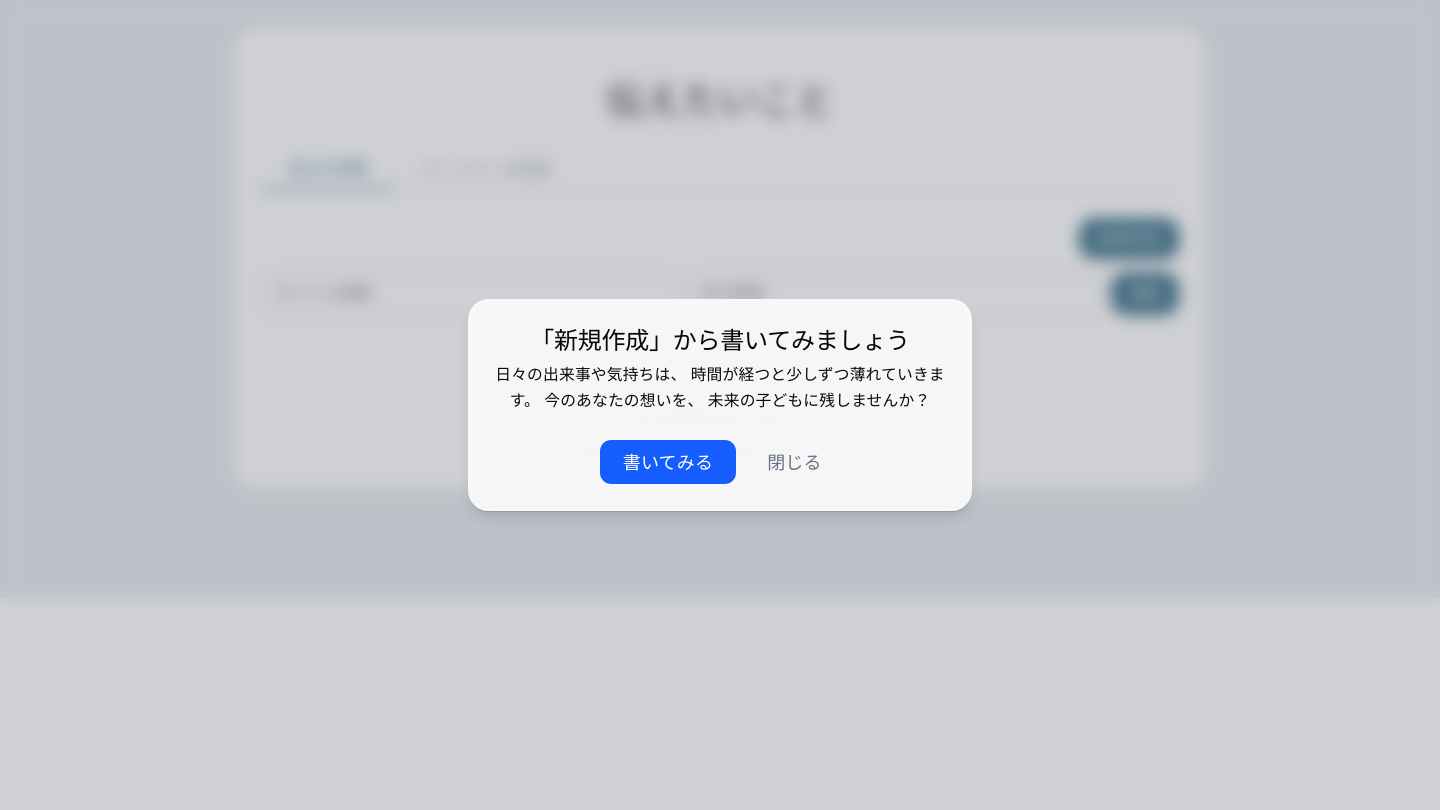
PostList › Guide,Info,Toast › 「書いてみる」で新規投稿画面に遷移する
Click the button "書いてみる": (668, 462) [600,440,736,484]
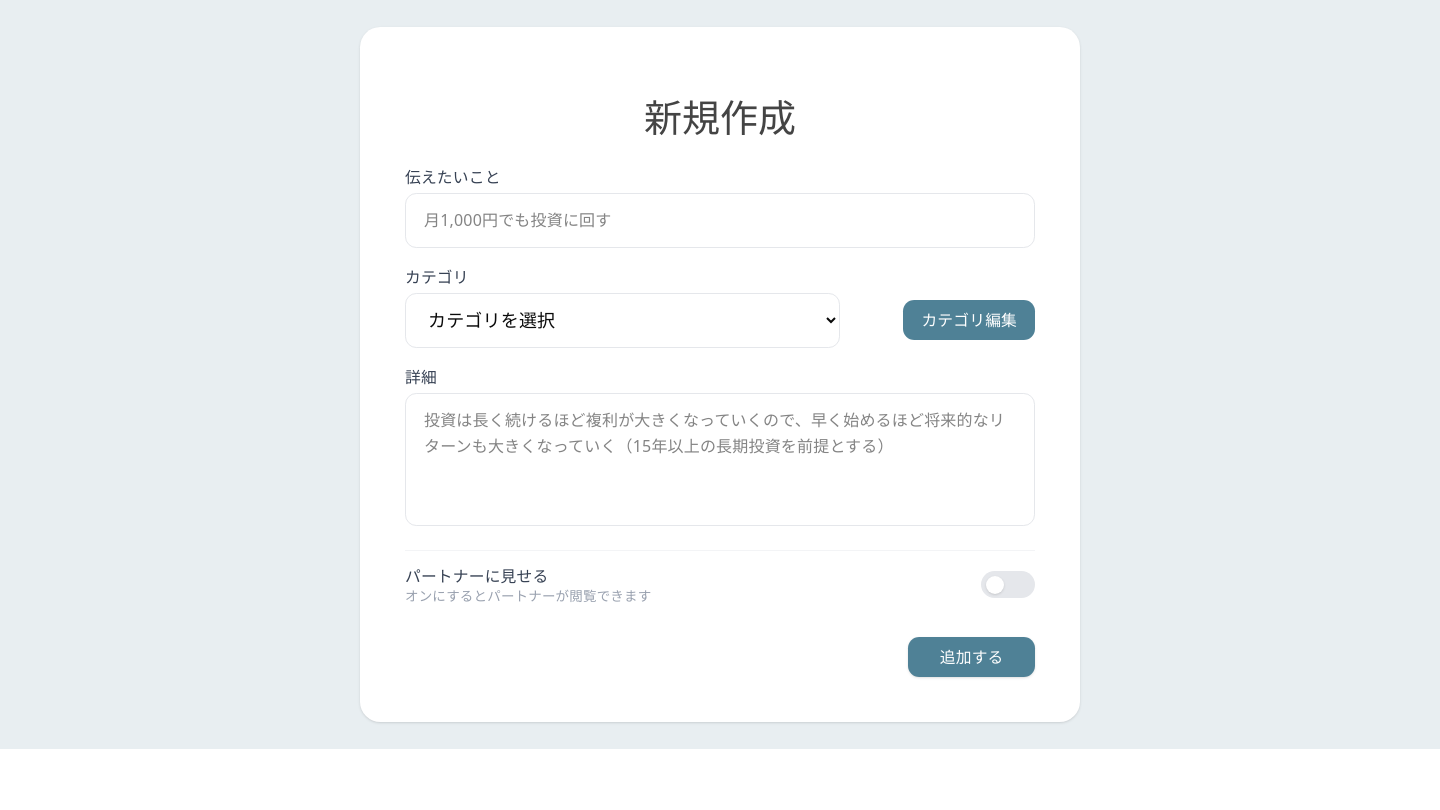
Result: the heading "新規作成" is shown at [644,90,796,142]
